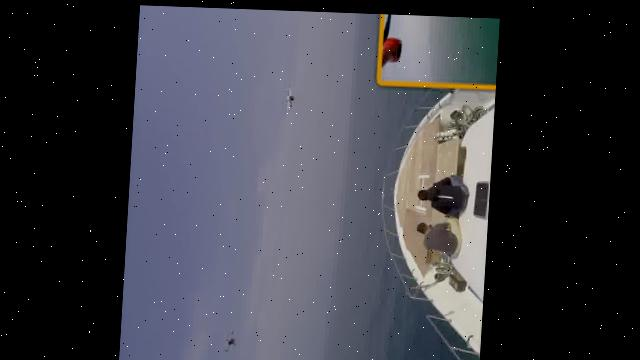drone: (220, 322, 245, 356), (277, 80, 303, 111)
